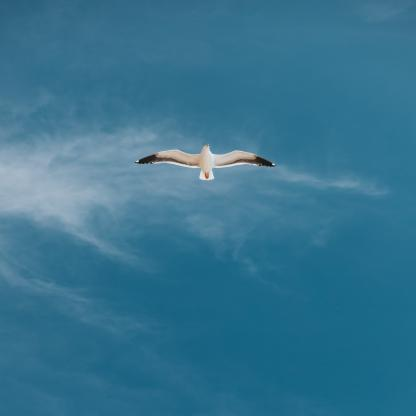bird: (136, 144, 276, 180)
